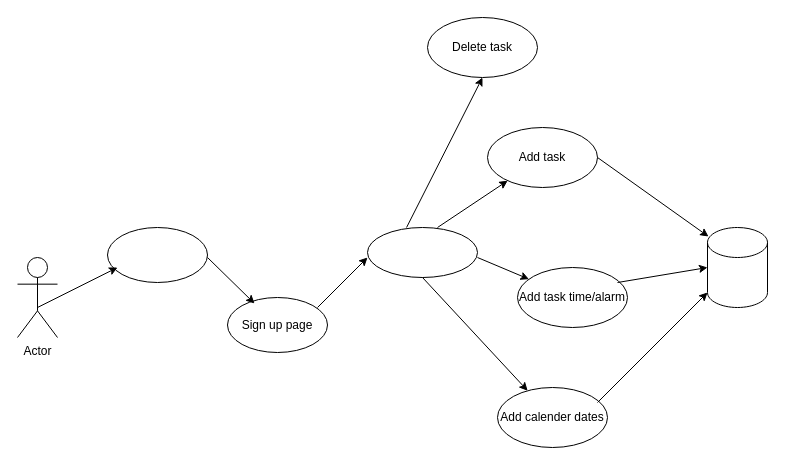
Image size: 785x465. Some labels were removed from this diagram. Each missing label, with the centre of its shape:
Database: pixel 737 267
Homepage: pixel 422 252
Splash screen: pixel 157 254
